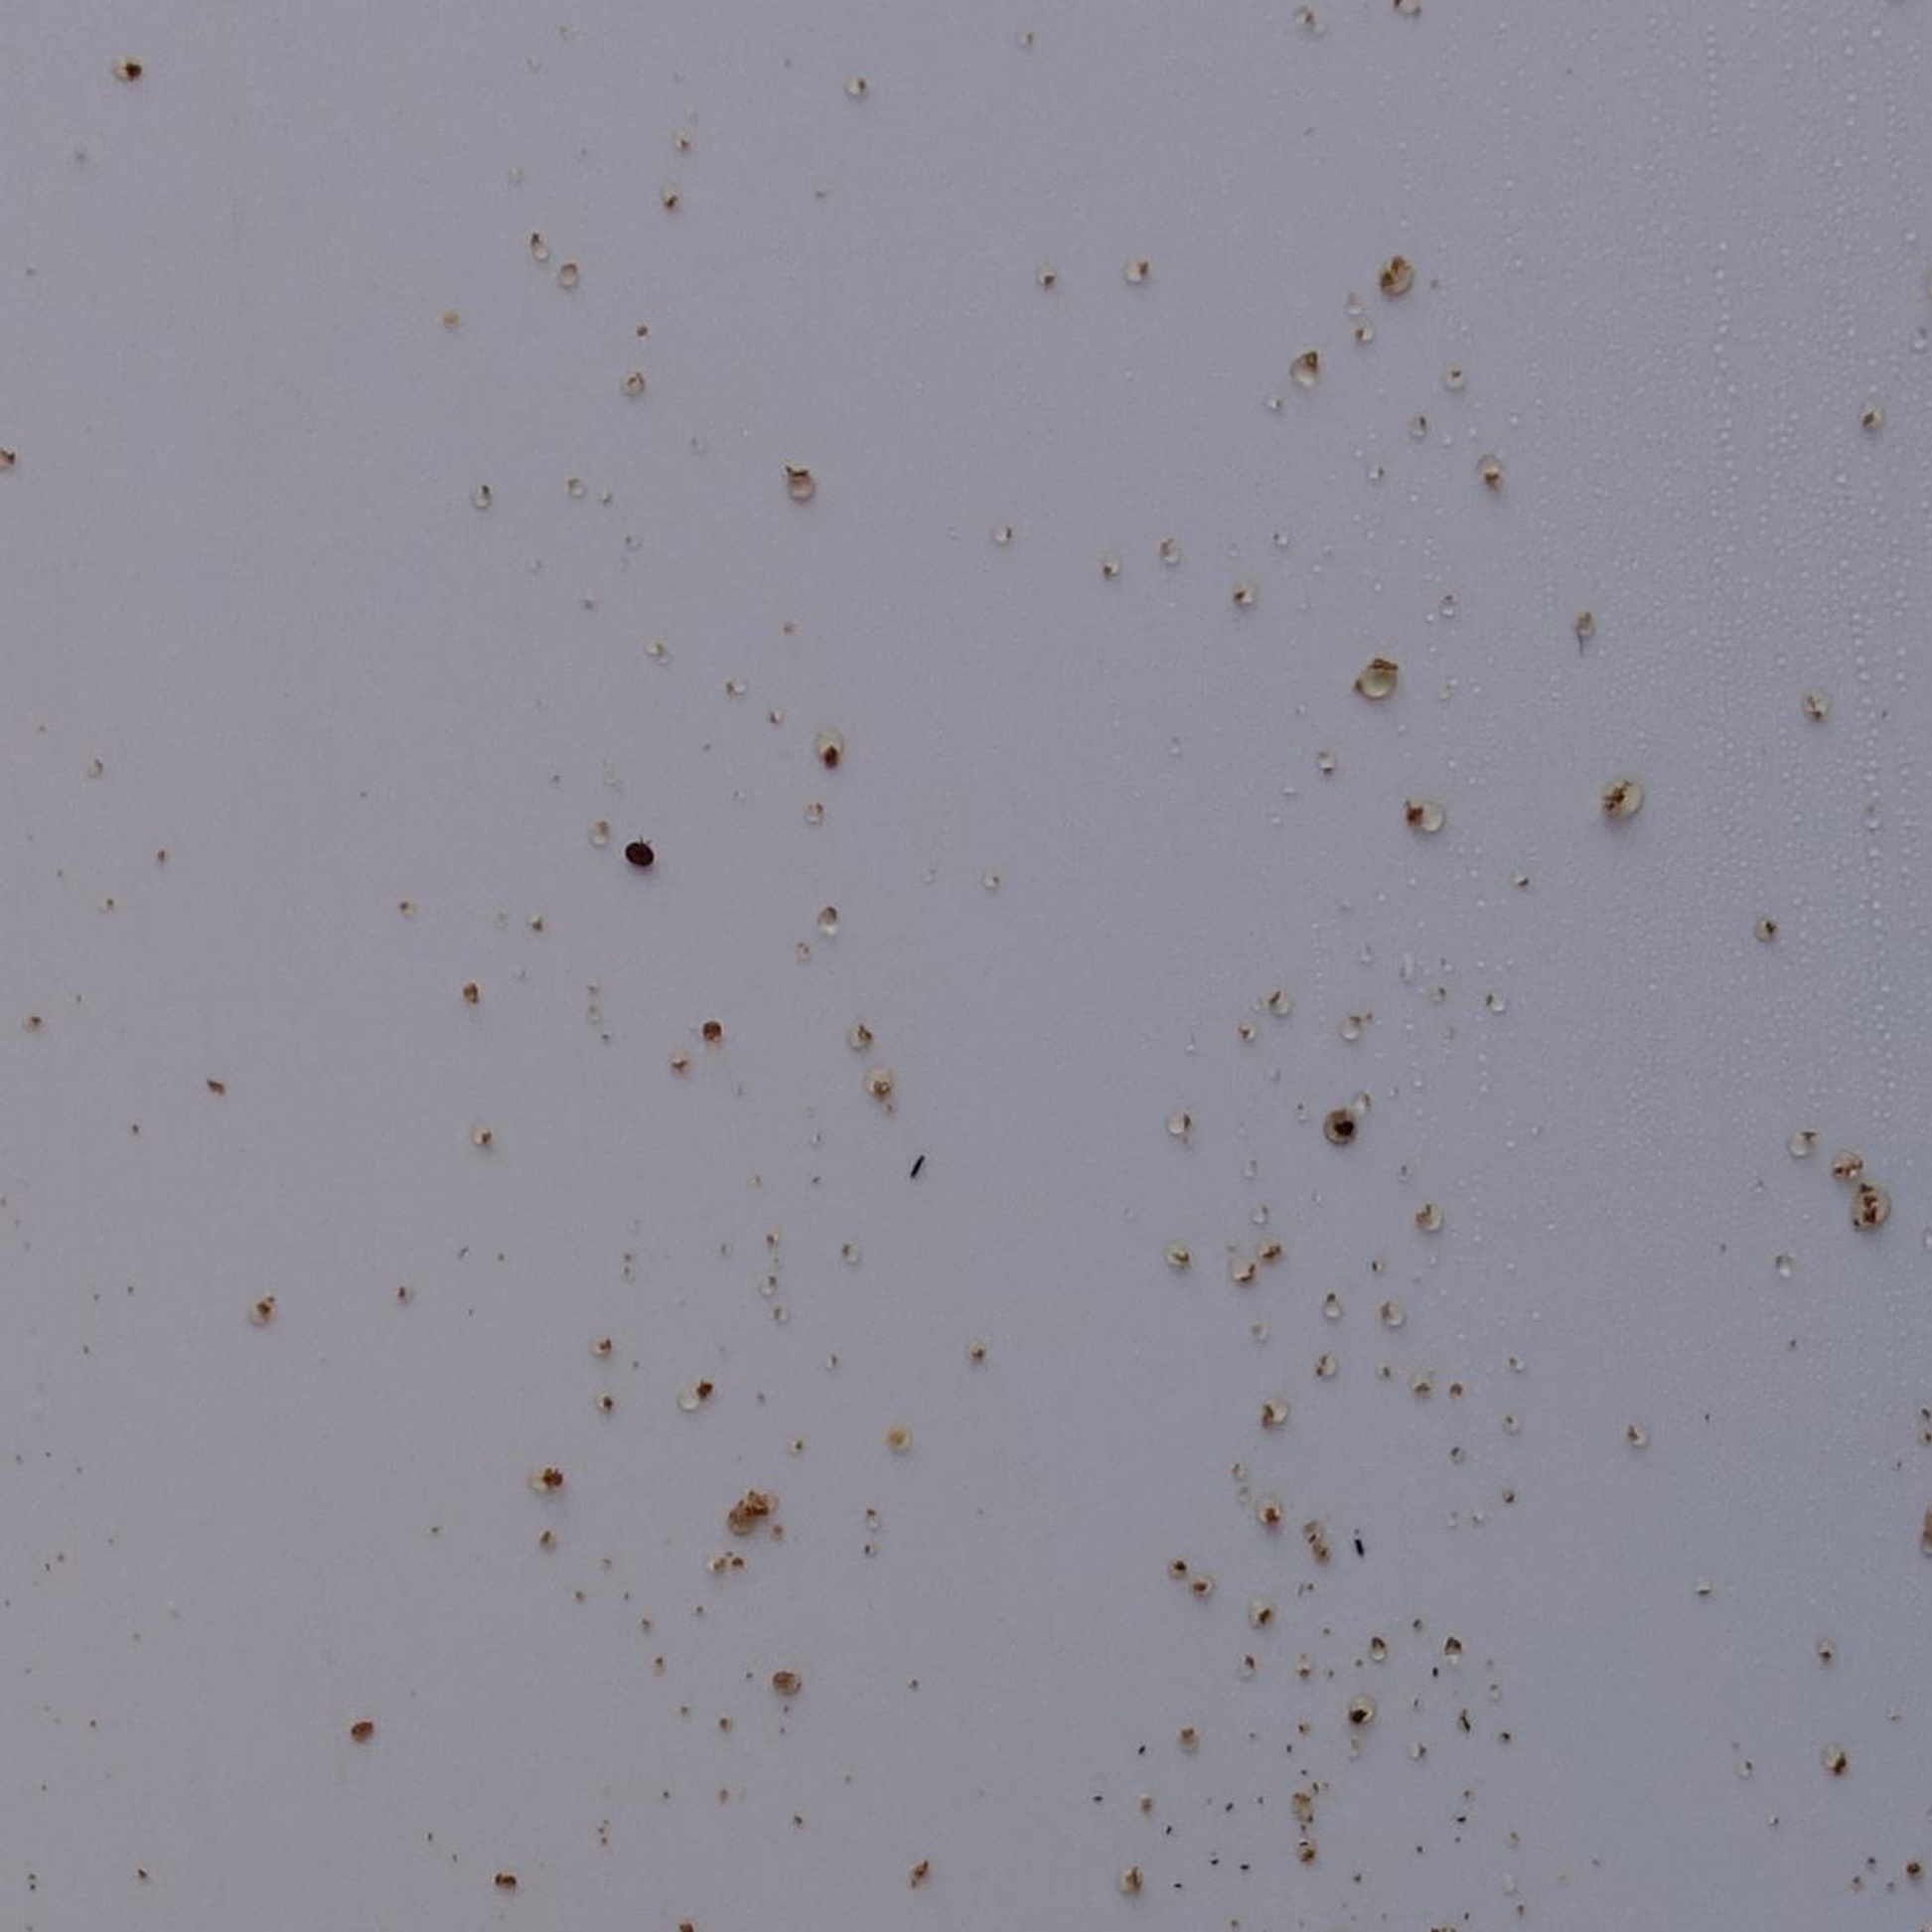Varroa: (632, 844, 646, 858)
